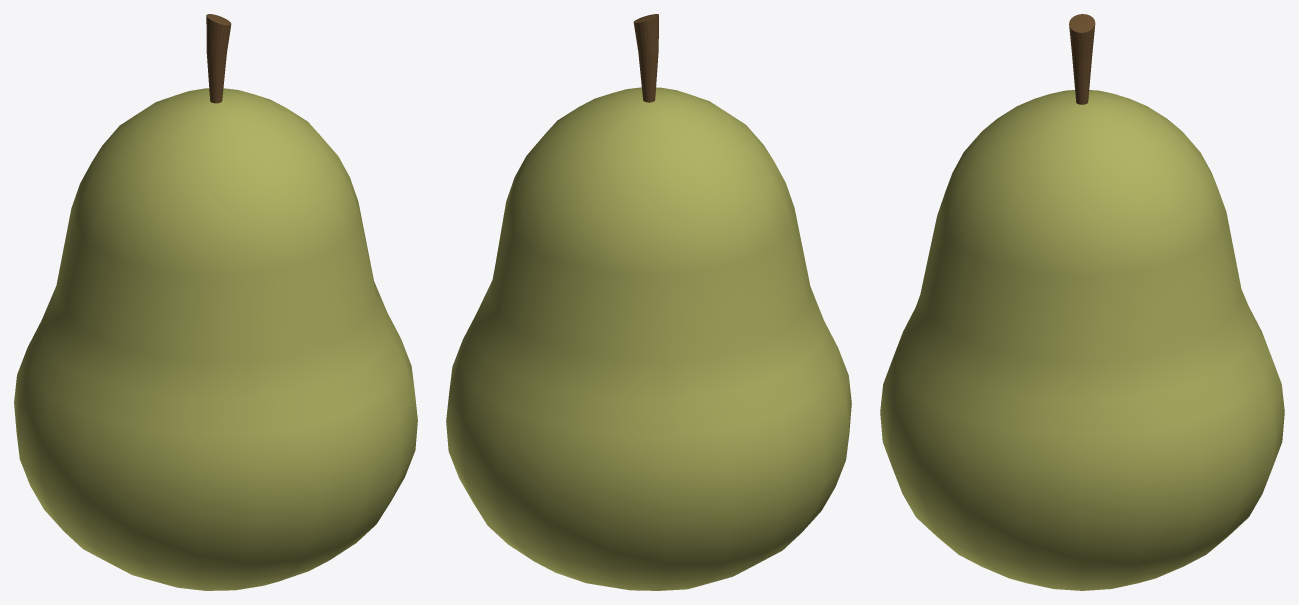
Rendered from pear.fbx.
3 renders of one model, left to right at view 1: azimuth 30°, elevation 25°; view 2: azimuth 150°, elevation 25°; view 3: azimuth 270°, elevation 25°, orthographic.
Parts seen in each view (by area): view 1: pSphere1; view 2: pSphere1; view 3: pSphere1.
Part boxes in pixels (bbox=[...]): pSphere1: bbox=[14, 14, 417, 590]; pSphere1: bbox=[446, 14, 851, 590]; pSphere1: bbox=[880, 14, 1284, 590].
Bounding box in the file's own units: 2.06 × 3.11 × 2.06.
